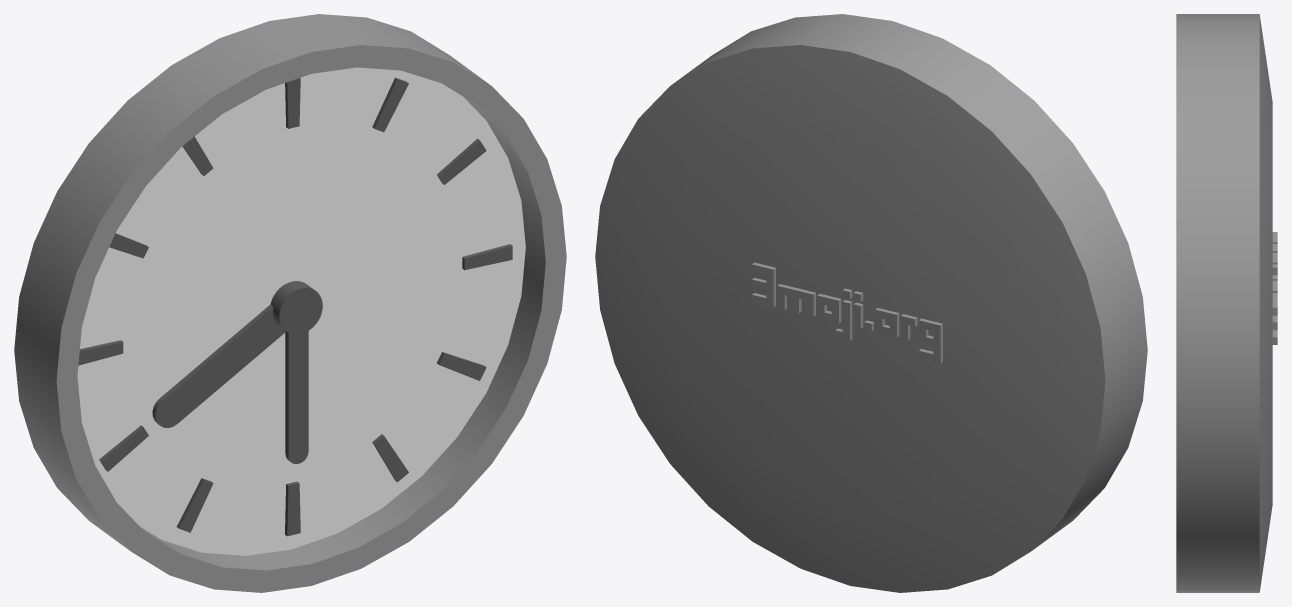
File: eight_thirty.fbx
3 views of the same model, side by side, from view 1: azimuth 30°, elevation 25°; view 2: azimuth 150°, elevation 25°; view 3: azimuth 270°, elevation 25° (orthographic).
Parts seen in each view (by area): view 1: Circle.2480; view 2: Circle.2480; view 3: Circle.2480.
Boxes of the visible parts, bbox=[...] form: Circle.2480: bbox=[14, 14, 566, 592]; Circle.2480: bbox=[595, 14, 1147, 592]; Circle.2480: bbox=[1176, 14, 1277, 592].
Size of the model in its own units: 233 by 233 by 40.69.
1 material, 1 textured.
